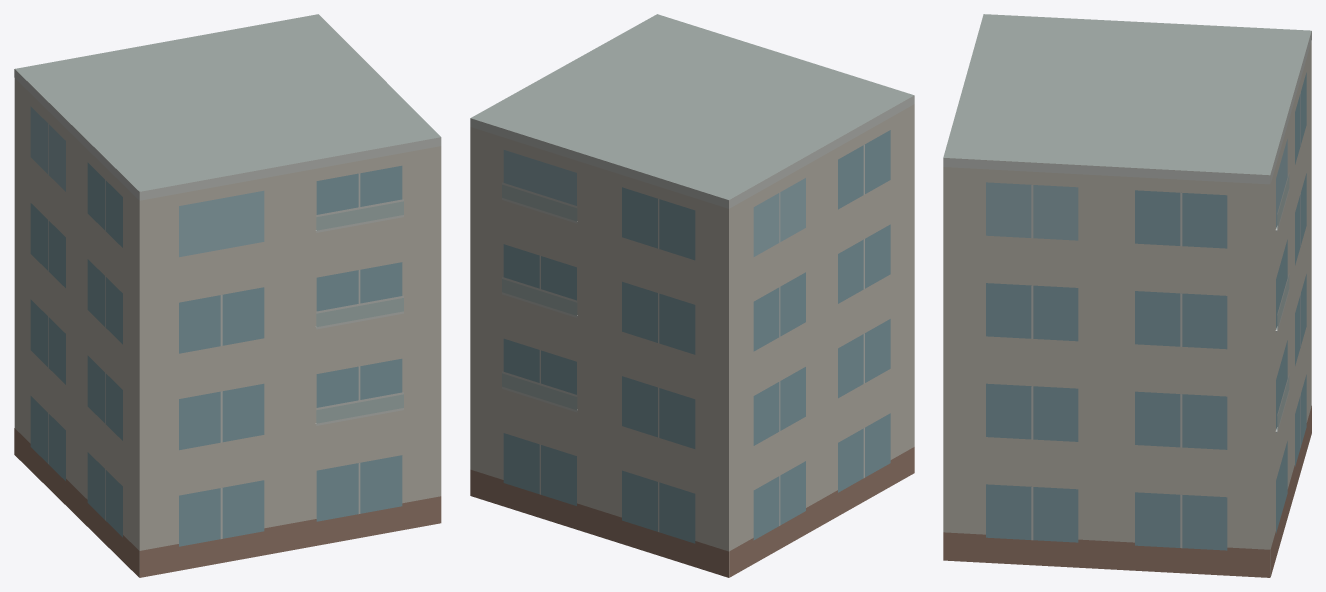
File: survey-upis-32541612.glb
3 views of the same model, side by side, from view 1: azimuth 30°, elevation 25°; view 2: azimuth 150°, elevation 25°; view 3: azimuth 270°, elevation 25° (orthographic). The views are drawn at different scales.
Parts seen in each view (by area): view 1: survey-upis-32541612.tmp; view 2: survey-upis-32541612.tmp; view 3: survey-upis-32541612.tmp.
Boxes of the visible parts, x1,y1,x2,y2 form: survey-upis-32541612.tmp: [14, 14, 441, 577]; survey-upis-32541612.tmp: [470, 14, 914, 577]; survey-upis-32541612.tmp: [943, 14, 1311, 577].
Size of the model in its own units: 9.11 by 10.6 by 8.8.
